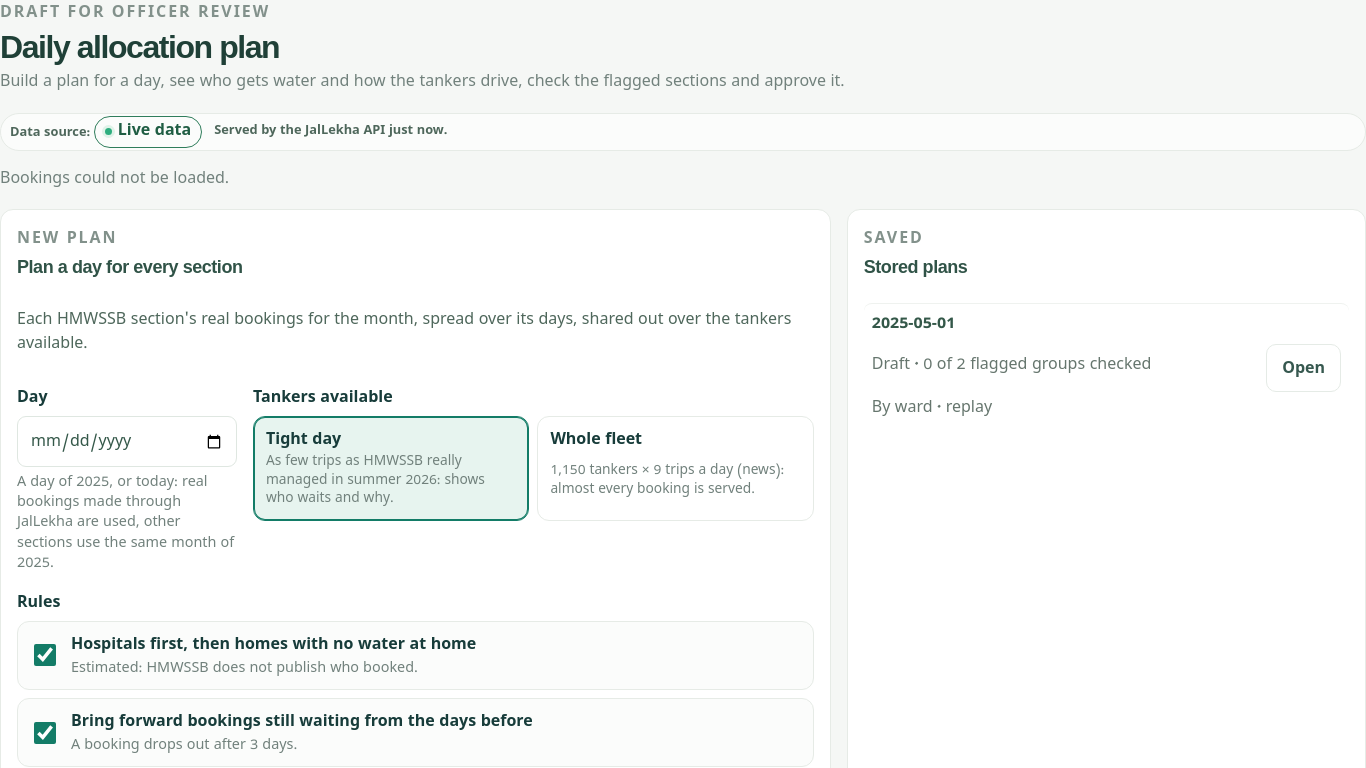
Test: PlanExperience (live API) › says how a calibrated threshold was chosen, and that it rests on assumed error rates
Expected: the text "Live data" is shown, [94, 116, 202, 148]
Click the button with aria-label "Open plan 2025-05-01" at coordinates (1304, 368), box [1266, 344, 1341, 392]
(page scrolled)
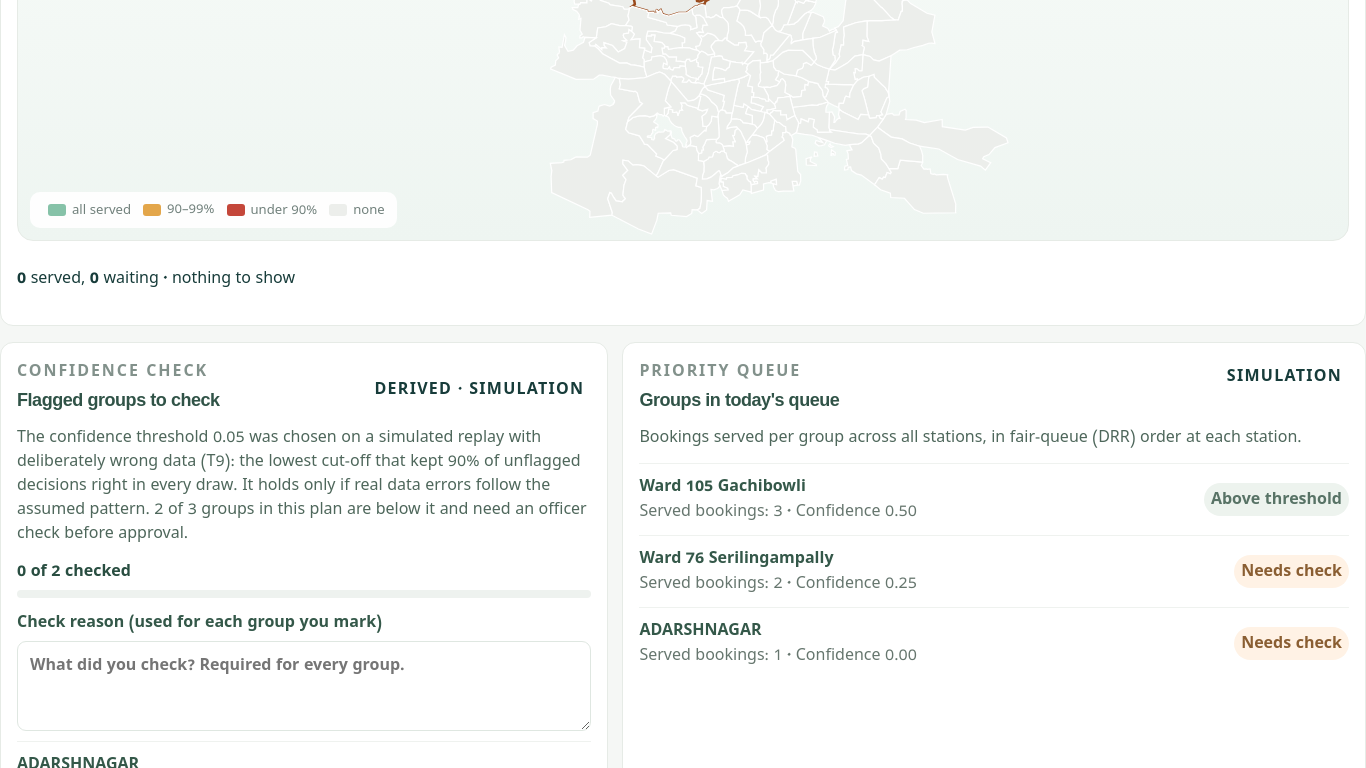
Result: the text "chosen on a simulated replay with deliberately wrong data" is shown at [17, 428, 587, 546]
Result: the text "DERIVED · SIMULATION" is shown at [374, 380, 584, 402]
